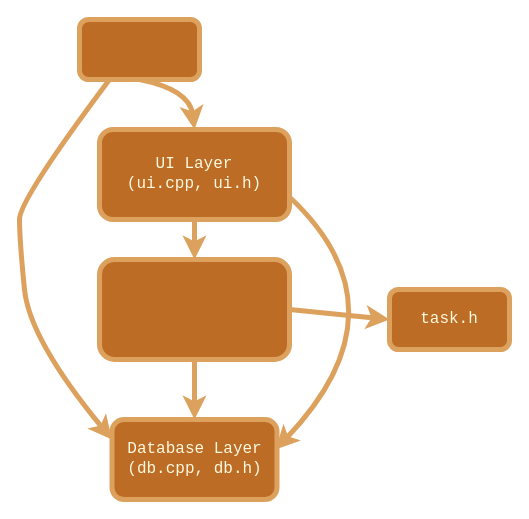
This 529x519 diagram has some shape labels left out. Here are the shapes that lost their labels. From the top down, the centre of each, then its label:
At point 139,49: "main.cpp".
At point 194,309: "Business Logic Layer (task_manager.cpp, task_manager.h)".
